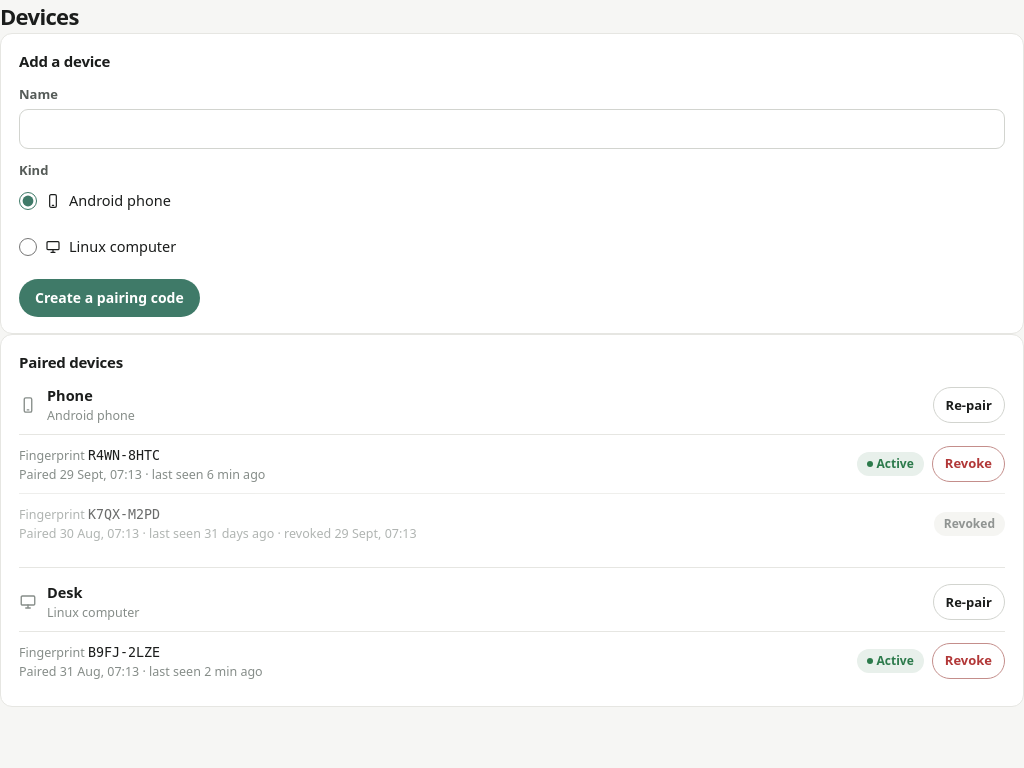
Test: Devices › re-pairs an existing device with a fresh code
Expected: the text "R4WN-8HTC" is shown, x1=88 y1=448 x2=160 y2=462
Click the 1st button "Re-pair" at point(969, 405), box x1=933 y1=387 x2=1005 y2=423
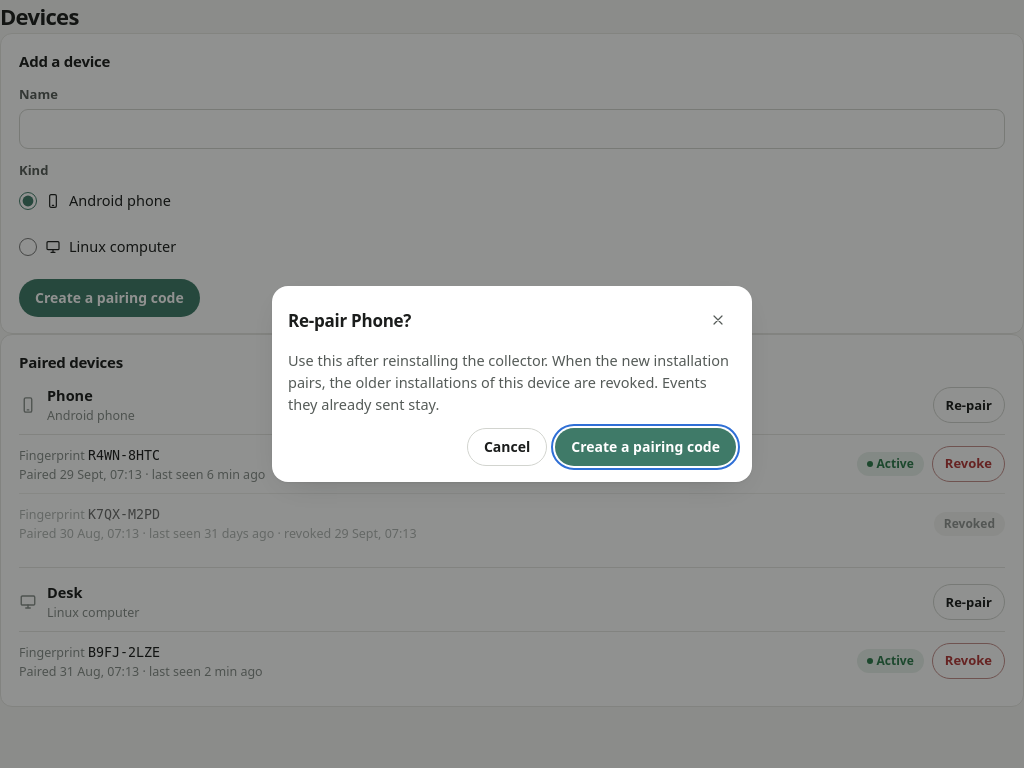
Click the button "Create a pairing code" at point(646, 447), box x1=555 y1=428 x2=736 y2=466
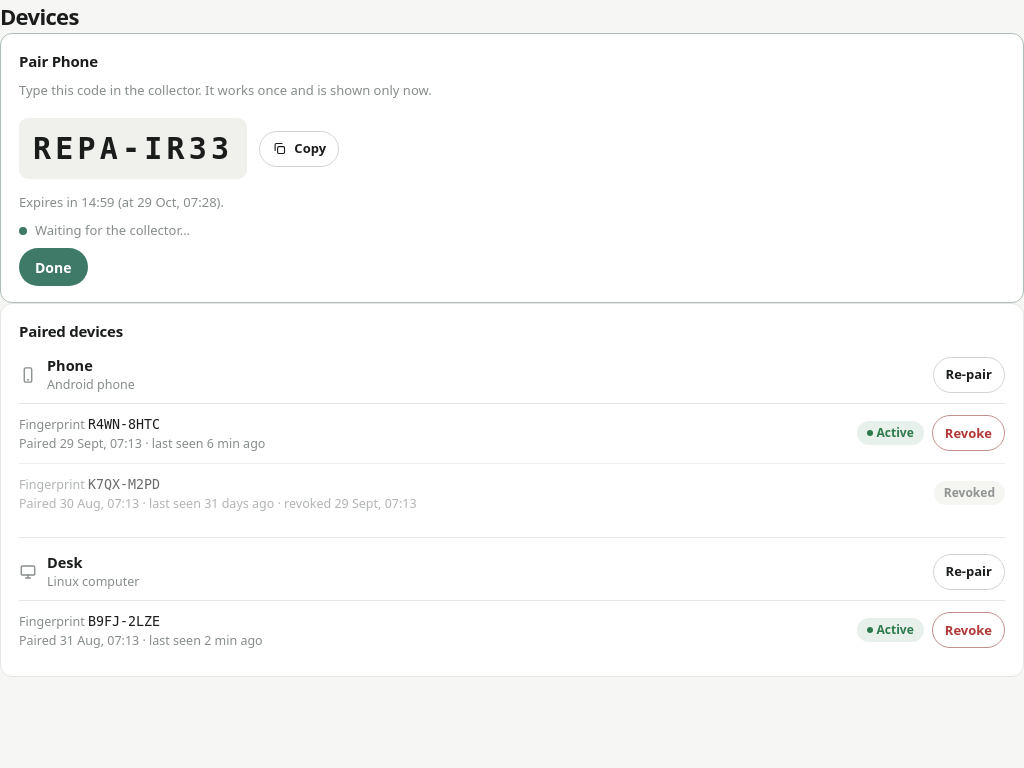
Expected: the text with test id "pairing-code" reads "REPA-IR33", x1=33 y1=131 x2=233 y2=166
